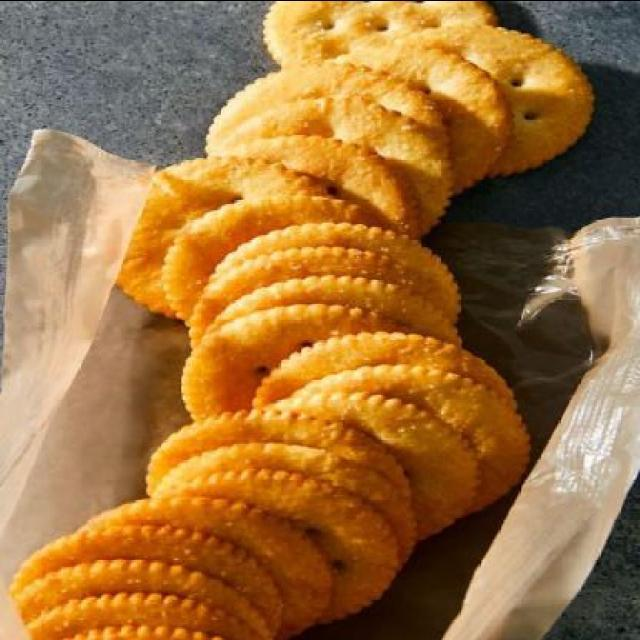Ritz cracker packaged: (11, 0, 594, 640)
